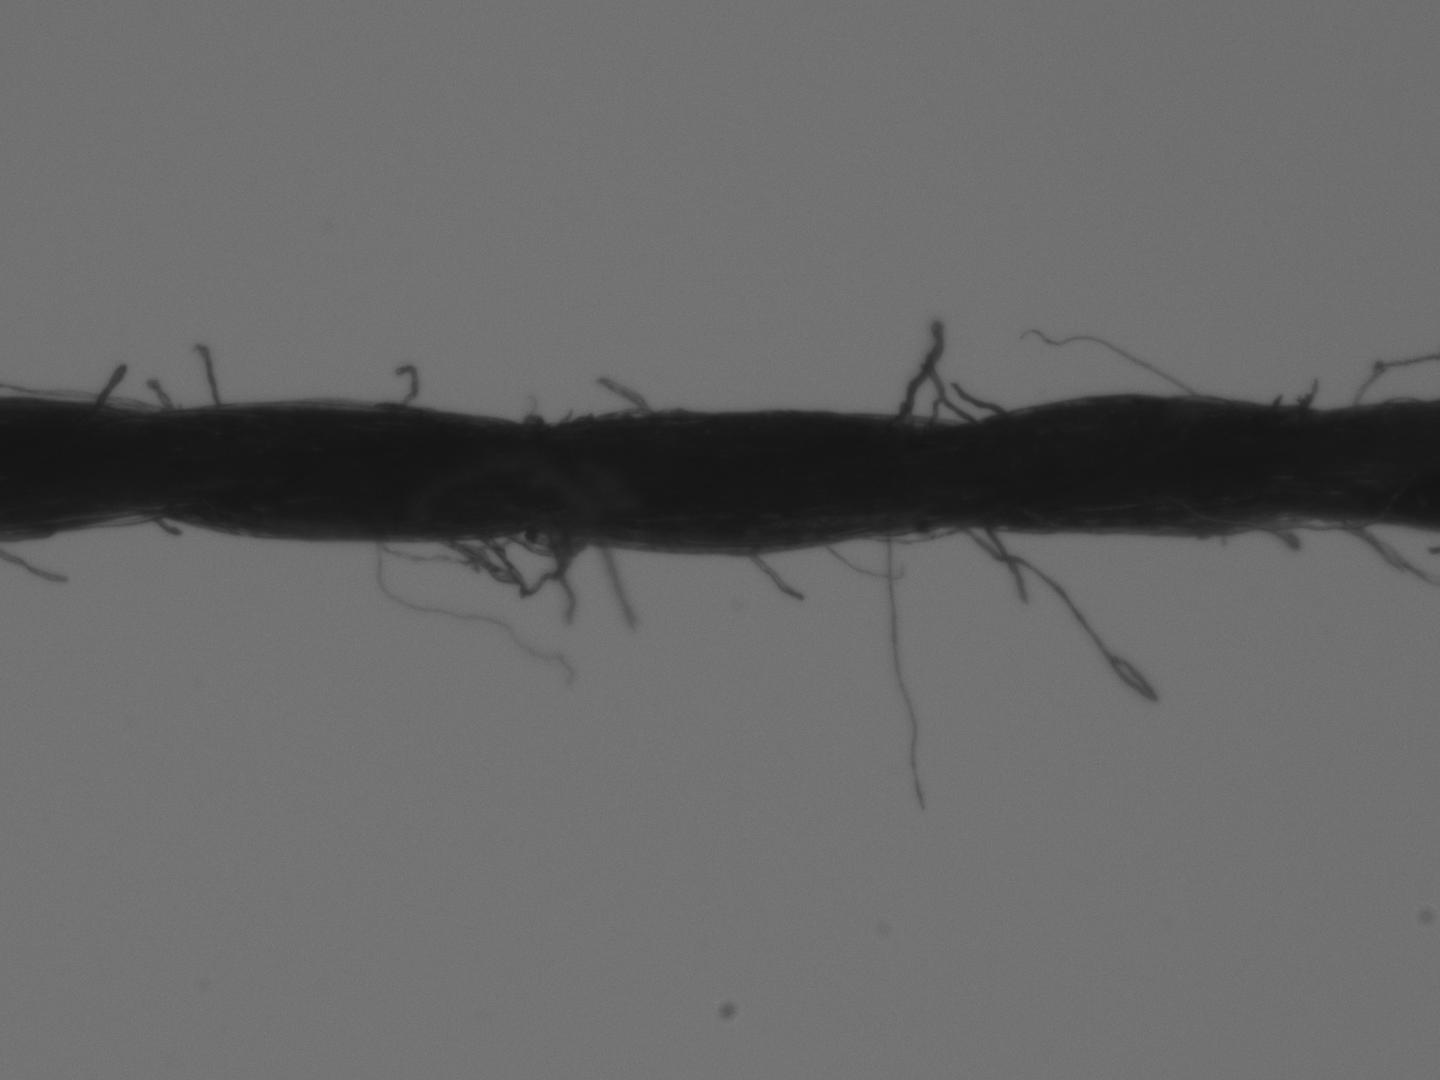loop_fiber: (475, 526, 575, 593), (1226, 509, 1380, 535), (370, 531, 491, 563), (864, 518, 974, 547), (505, 526, 587, 558), (82, 517, 163, 533)
protruding_fiber: (887, 313, 949, 429), (743, 550, 808, 607), (195, 336, 230, 420), (85, 362, 129, 405)
